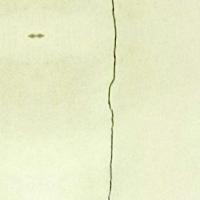crack: (80, 0, 142, 199)
